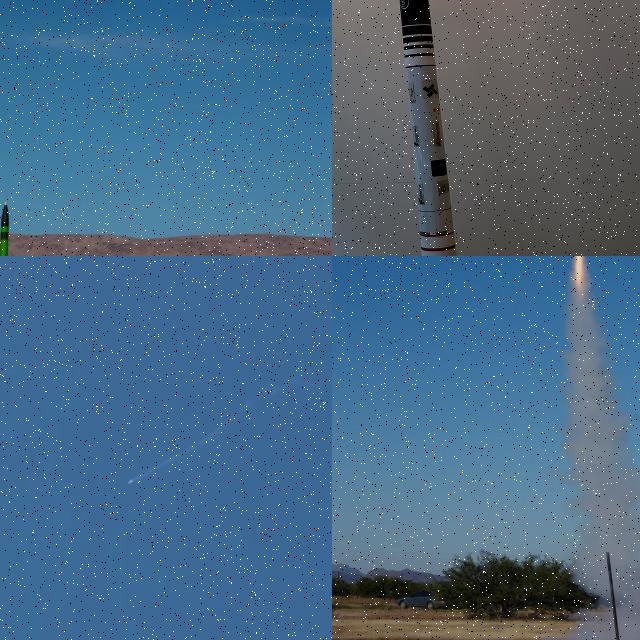Rocket: (399, 0, 457, 256), (0, 200, 21, 256), (127, 479, 133, 485)
